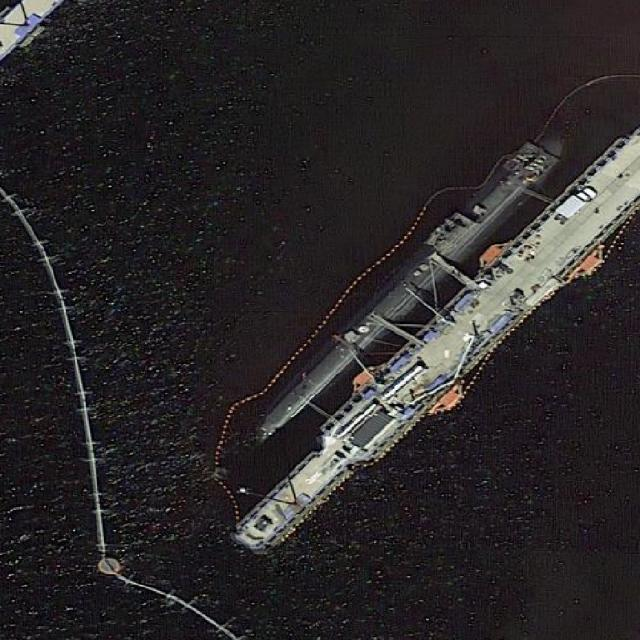Submarine: (239, 123, 572, 449)
